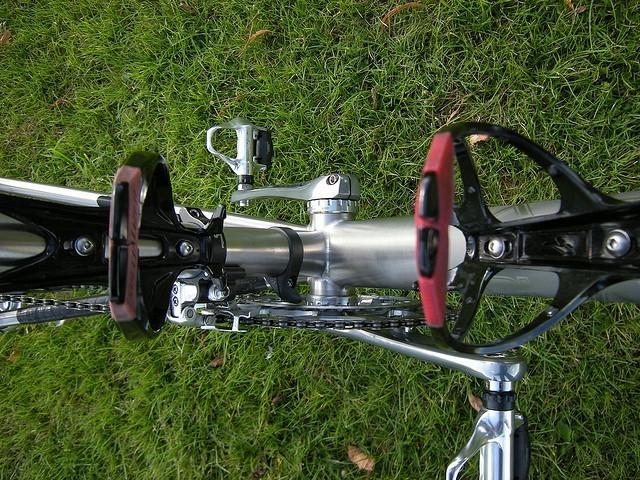bicycle: (1, 120, 639, 478)
